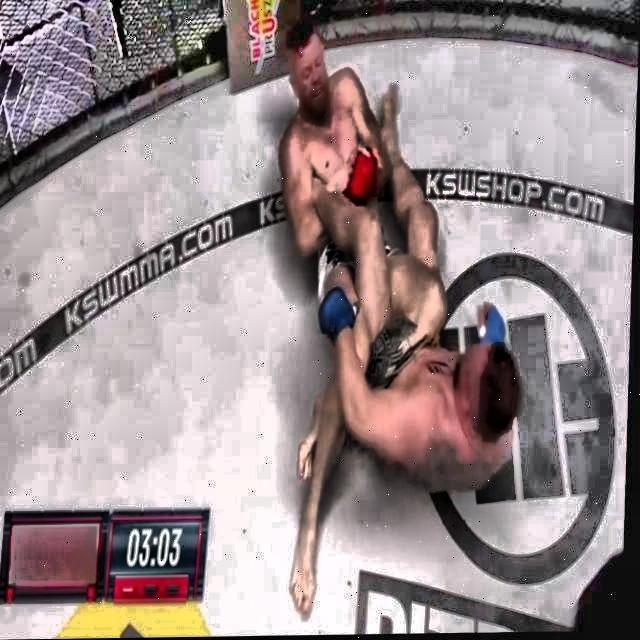low-guard: (282, 31, 341, 170)
